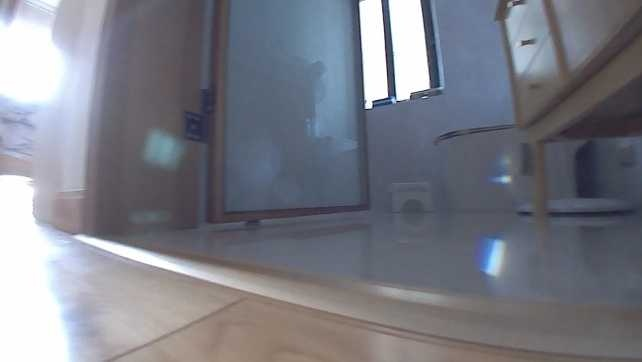chair_base: (516, 189, 636, 216)
door_anno: (202, 0, 373, 225)
door_sill: (71, 233, 641, 358)
plastic_stool: (389, 179, 436, 216)
toilet: (431, 119, 530, 215)
washstand: (490, 0, 641, 220)
